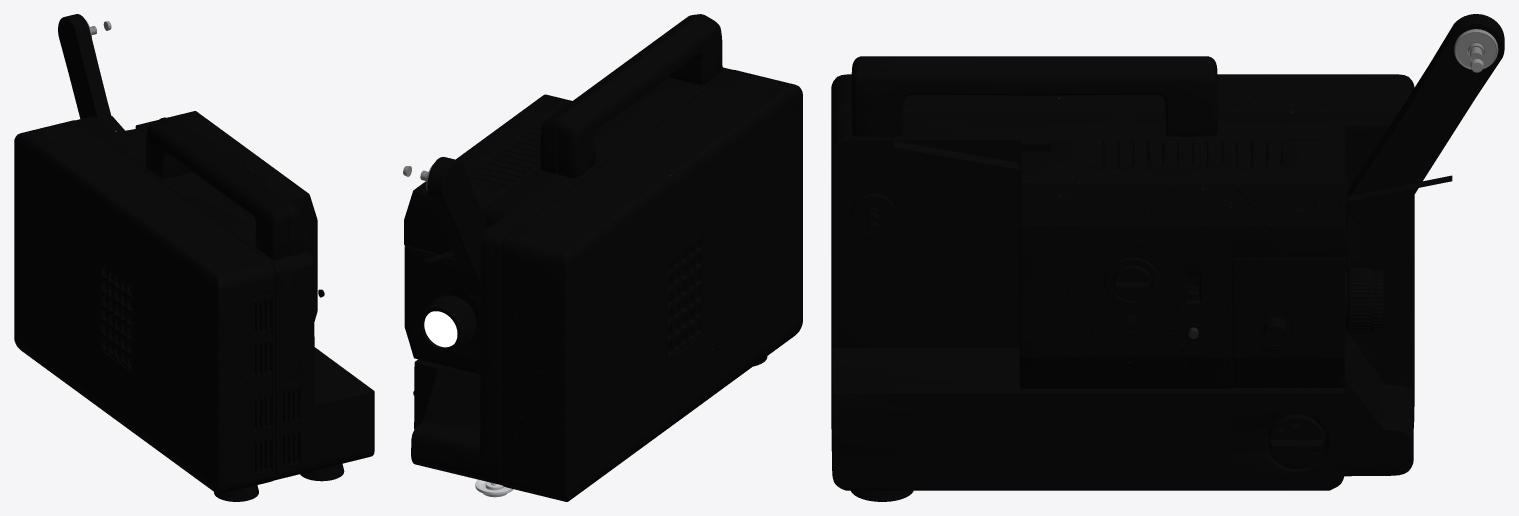
File: vintage-projector.glb
3 views of the same model, side by side, from view 1: azimuth 30°, elevation 25°; view 2: azimuth 150°, elevation 25°; view 3: azimuth 270°, elevation 25° (orthographic). The views are drawn at different scales.
Visible parts, largest first — view 1: storage_compartment_mesh, projector_base_mesh, handle_mesh.001, front_body_mesh, takeup_reel_arm_mesh, support_base_001_mesh, support_base_002_mesh; view 2: storage_compartment_mesh, projector_base_mesh, front_body_mesh, handle_mesh.001, takeup_reel_arm_mesh, camera_mesh, lens_mesh; view 3: projector_base_mesh, front_body_mesh, handle_mesh.001, storage_compartment_mesh, takeup_reel_arm_mesh, camera_mesh, function_lever_mesh, reel_support_002_mesh, reel_support_001_mesh, framing_lever_base_mesh, framing_lever_mesh, bottom_film_mesh (+1 smaller).
Boxes of the visible parts, box(x1,y1,x2,y2) form: storage_compartment_mesh: box(14, 120, 275, 494); projector_base_mesh: box(76, 116, 374, 480); handle_mesh.001: box(145, 117, 303, 259); front_body_mesh: box(135, 111, 317, 321); takeup_reel_arm_mesh: box(58, 14, 115, 130); support_base_001_mesh: box(300, 463, 344, 481); support_base_002_mesh: box(214, 485, 258, 501); storage_compartment_mesh: box(500, 69, 802, 501); projector_base_mesh: box(411, 67, 731, 485); front_body_mesh: box(404, 94, 571, 374); handle_mesh.001: box(540, 14, 722, 178); takeup_reel_arm_mesh: box(427, 157, 488, 300); camera_mesh: box(418, 295, 476, 352); lens_mesh: box(424, 311, 457, 347); projector_base_mesh: box(831, 112, 1414, 490); front_body_mesh: box(1019, 140, 1345, 388); handle_mesh.001: box(851, 56, 1217, 136); storage_compartment_mesh: box(831, 74, 1414, 406); takeup_reel_arm_mesh: box(1348, 14, 1504, 230); camera_mesh: box(1345, 268, 1383, 334); function_lever_mesh: box(1267, 414, 1325, 468); reel_support_002_mesh: box(851, 193, 895, 234); reel_support_001_mesh: box(1454, 29, 1498, 69); framing_lever_base_mesh: box(1104, 257, 1160, 308); framing_lever_mesh: box(1113, 265, 1151, 301); bottom_film_mesh: box(893, 141, 1019, 169).
Bounding box in the file's own units: 2.12 × 3.52 × 4.84.
8 materials, 8 textured.
